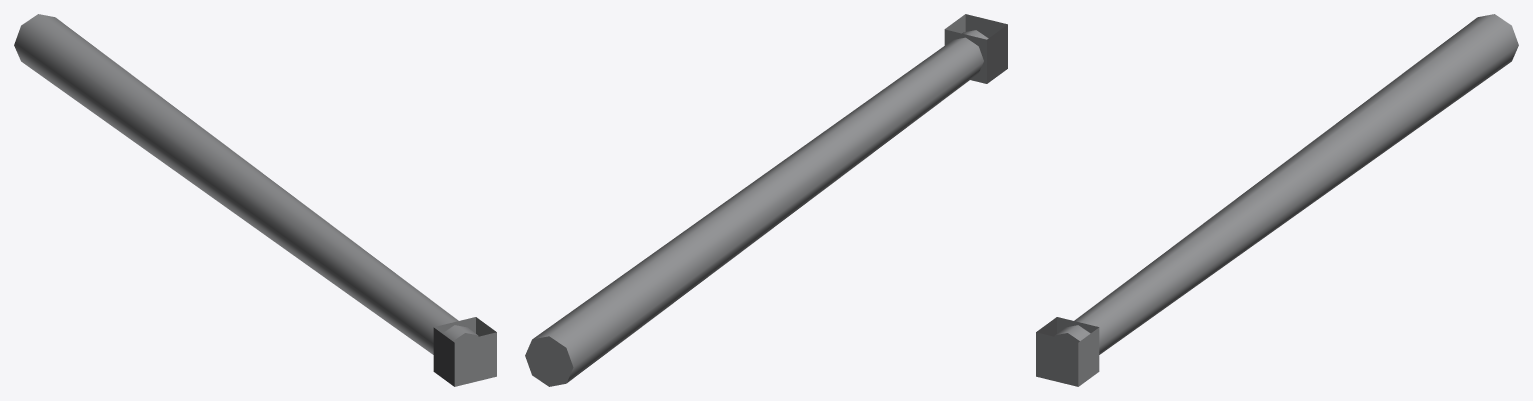
3 views of the same model, side by side, from view 1: azimuth 30°, elevation 25°; view 2: azimuth 150°, elevation 25°; view 3: azimuth 330°, elevation 25° (orthographic).
Bounding box in the file's own units: 0.0736 × 0.0736 × 1.15.
